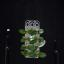leaf: (38, 40, 46, 48), (18, 28, 27, 34), (26, 44, 34, 50), (38, 52, 46, 58), (29, 39, 38, 44), (20, 36, 27, 42), (38, 28, 44, 34), (27, 27, 32, 34), (27, 52, 35, 56), (31, 30, 37, 35), (38, 37, 44, 42), (32, 46, 38, 51), (24, 49, 28, 56), (27, 36, 34, 40), (20, 51, 25, 56), (20, 45, 26, 49)
